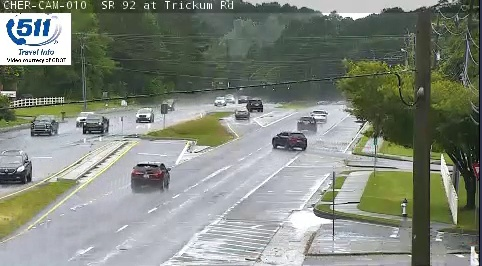car: (131, 163, 170, 189), (296, 116, 315, 132), (311, 110, 327, 123)
